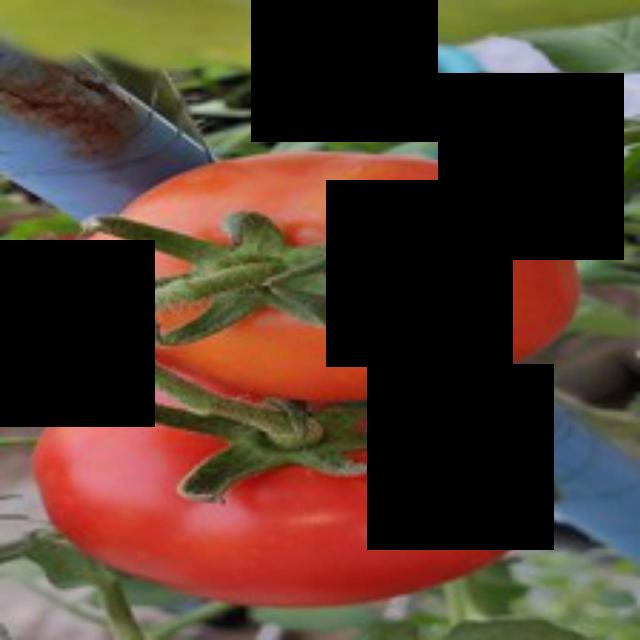tomato: (25, 348, 555, 614), (78, 142, 588, 400)
